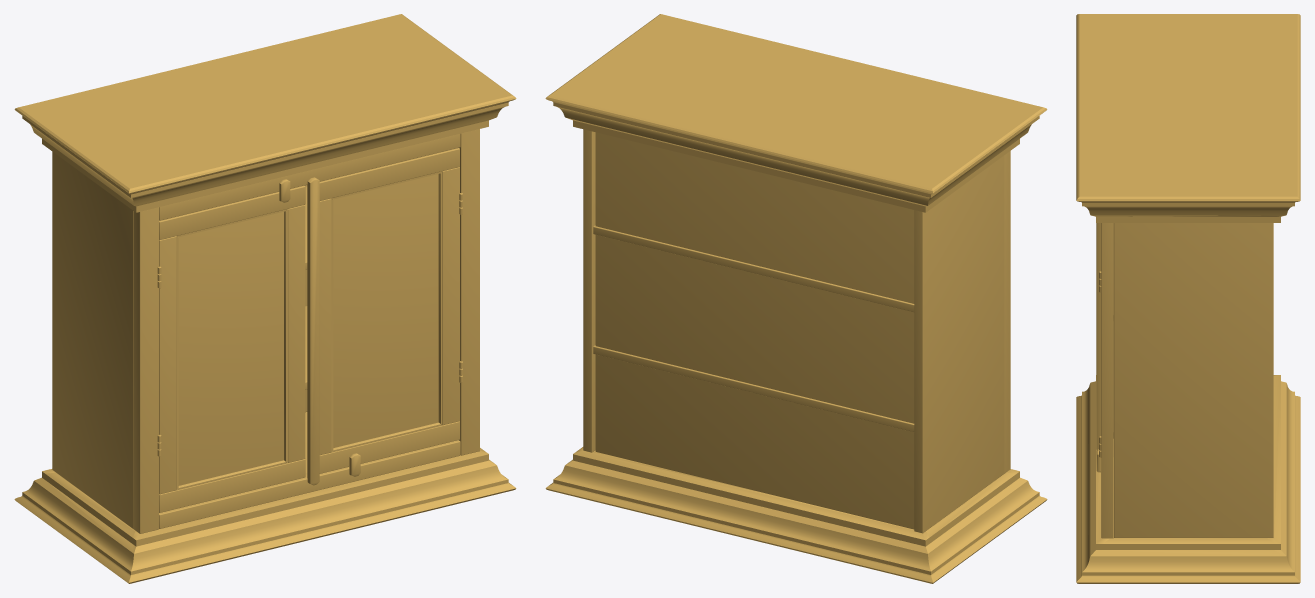
Rendered from Fiorellone.fbx.
3 renders of one model, left to right at view 1: azimuth 30°, elevation 25°; view 2: azimuth 150°, elevation 25°; view 3: azimuth 270°, elevation 25°, orthographic. The views are drawn at different scales.
Parts seen in each view (by area): view 1: Fiorellone; view 2: Fiorellone; view 3: Fiorellone.
Boxes of the visible parts, bbox=[...] form: Fiorellone: bbox=[14, 14, 516, 583]; Fiorellone: bbox=[545, 14, 1047, 583]; Fiorellone: bbox=[1076, 14, 1300, 583].
Size of the model in its own units: 256 by 249 by 131.
